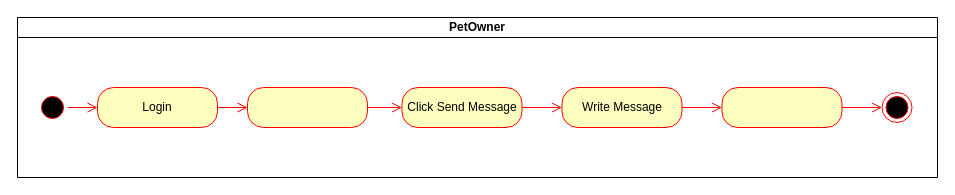
The diagram is 955 pixels wide and 195 high, and some of its shapes have lost their labels. The shapes that lost their labels are listed below. From the top down, each one's centre as x and y in pixels, then its label:
At point (307, 107): "Click on My Friends on the Menu".
At point (781, 107): "Click Send".
